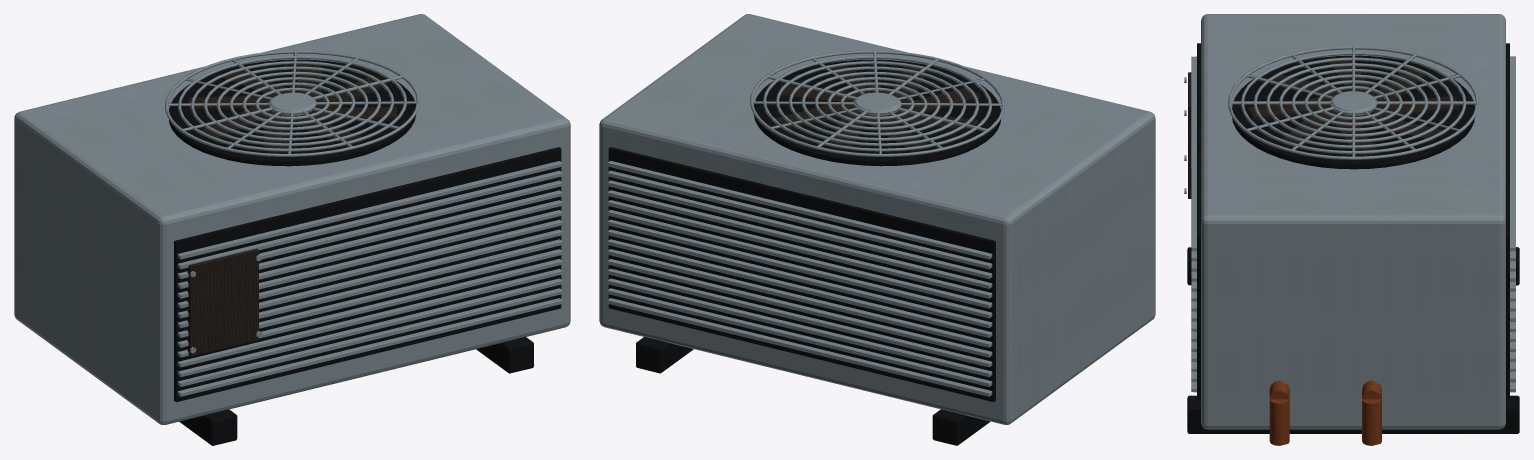
Rendered from unit.glb.
The picture shows the model from 3 angles, left to right: view 1: azimuth 30°, elevation 25°; view 2: azimuth 150°, elevation 25°; view 3: azimuth 270°, elevation 25°; orthographic projection. The views are drawn at different scales.
Parts seen in each view (by area): view 1: unit; view 2: unit; view 3: unit.
Boxes of the visible parts, x1,y1,x2,y2 form: unit: [14, 14, 570, 445]; unit: [599, 14, 1155, 445]; unit: [1184, 14, 1519, 445].
Bounding box in the file's own units: 2.8 × 1.5 × 1.8.
1 material, 1 textured.
